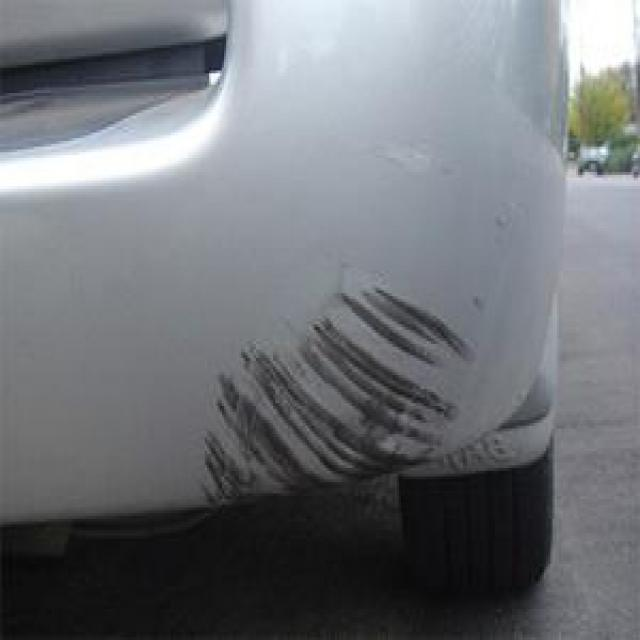scratch: (182, 254, 518, 530)
